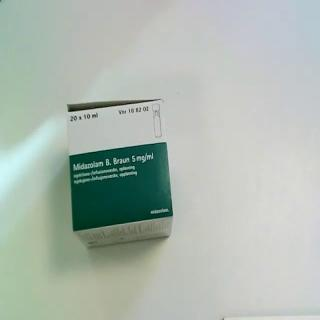midazolam5mg_ml: (65, 97, 177, 252)
